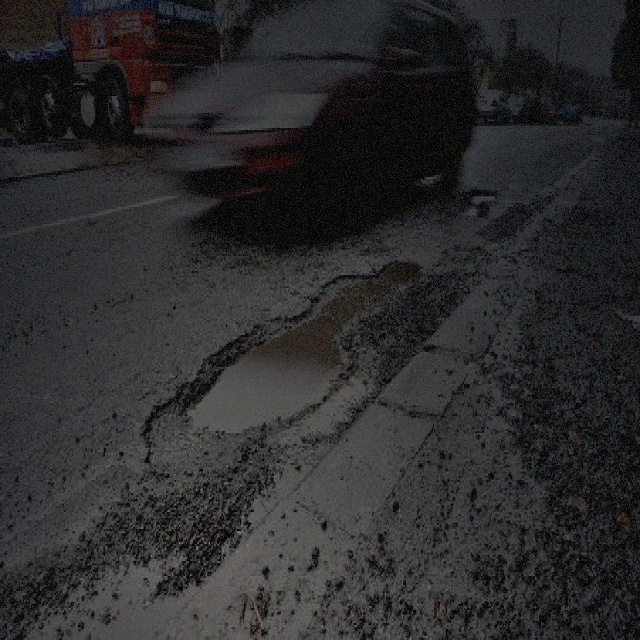pothole: (174, 252, 428, 435), (460, 183, 499, 216)
